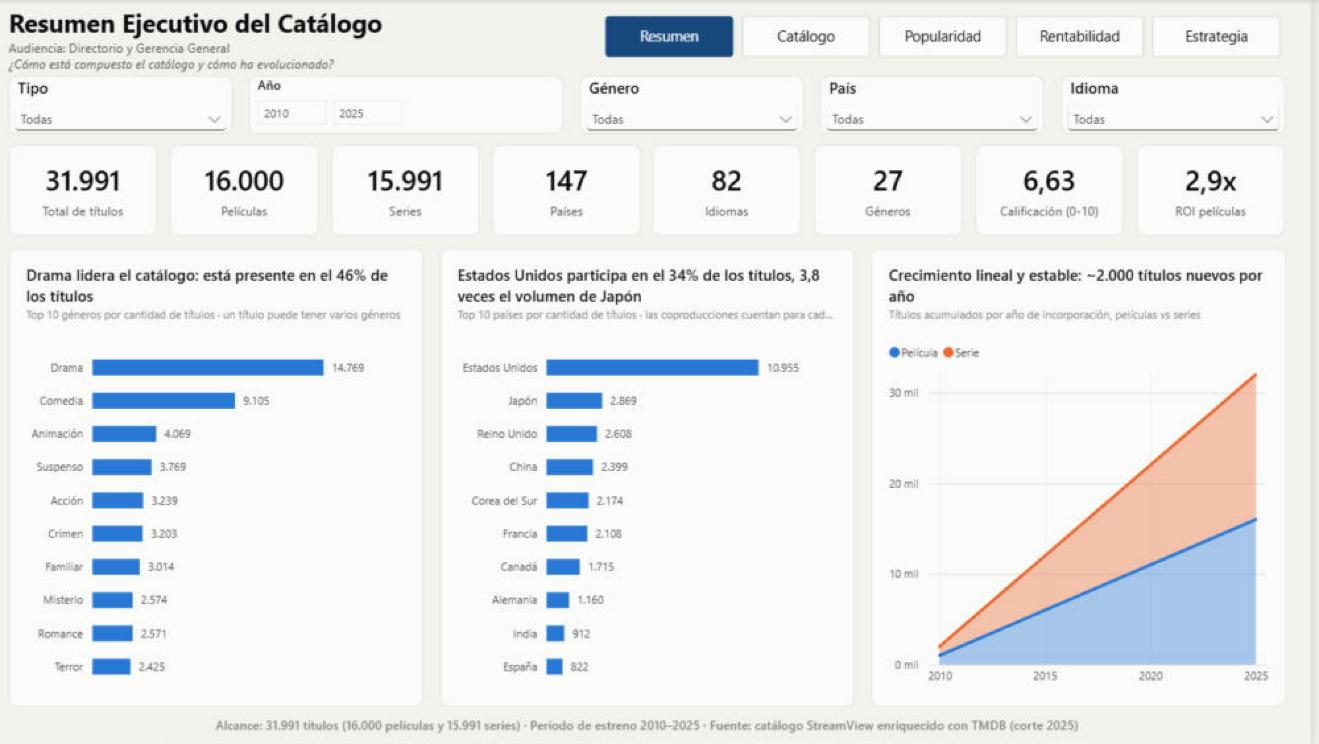

The page's visual inventory and layout, read from the dashboard file:
{"tool":"powerbi","page":{"name":"Resumen","canvas":[1280,720],"ordinal":0},"visuals":[{"type":"textbox","box":[24,6,560,64],"z":1000},{"type":"pageNavigator","box":[600,16,656,40],"z":2000},{"type":"slicer","fields":{"Values":["Contenido.Tipo"]},"box":[24,74,216.3,56],"z":3000},{"type":"slicer","fields":{"Values":["Calendario.Año"]},"box":[256.3,74,302.8,56],"z":4000},{"type":"slicer","fields":{"Values":["Genero.Género"]},"box":[575.1,74,216.3,56],"z":5000},{"type":"slicer","fields":{"Values":["Pais.País"]},"box":[807.4,74,216.3,56],"z":6000},{"type":"slicer","fields":{"Values":["Contenido.Idioma"]},"box":[1039.7,74,216.3,56],"z":7000},{"type":"card","fields":{"Values":["Medidas.Total Contenidos"]},"box":[24,140,143.5,88],"z":8000},{"type":"card","fields":{"Values":["Medidas.Total Películas"]},"box":[179.5,140,143.5,88],"z":9000},{"type":"card","fields":{"Values":["Medidas.Total Series"]},"box":[335,140,143.5,88],"z":10000},{"type":"card","fields":{"Values":["Medidas.Países Representados"]},"box":[490.5,140,143.5,88],"z":11000},{"type":"card","fields":{"Values":["Medidas.Idiomas Disponibles"]},"box":[646,140,143.5,88],"z":12000},{"type":"card","fields":{"Values":["Medidas.Géneros Distintos"]},"box":[801.5,140,143.5,88],"z":13000},{"type":"card","fields":{"Values":["Medidas.Calificación Promedio"]},"box":[957,140,143.5,88],"z":14000},{"type":"card","fields":{"Values":["Medidas.ROI"]},"box":[1112.5,140,143.5,88],"z":15000},{"type":"clusteredBarChart","fields":{"Category":["Genero.Género"],"Y":["Medidas.Total Contenidos"]},"box":[24,240,400,442],"z":16000},{"type":"clusteredBarChart","fields":{"Category":["Pais.País"],"Y":["Medidas.Total Contenidos"]},"box":[440,240,400,442],"z":17000},{"type":"stackedAreaChart","fields":{"Category":["Calendario.Año"],"Series":["Contenido.Tipo"],"Y":["Medidas.Contenidos Acumulados"]},"box":[856,240,400,442],"z":18000},{"type":"card","fields":{"Values":["Medidas.Texto Alcance"]},"box":[24,686,1232,32],"z":19000}]}

Visuals, with their boxes in screenshot pixels (x1, y1, x2, y2), scaled from the page's 1280x720 canvas onto the 1319x744 screenshot:
textbox: box(25, 6, 602, 72)
pageNavigator: box(618, 17, 1294, 58)
slicer - Contenido.Tipo: box(25, 76, 248, 134)
slicer - Calendario.Año: box(264, 76, 576, 134)
slicer - Genero.Género: box(593, 76, 816, 134)
slicer - Pais.País: box(832, 76, 1055, 134)
slicer - Contenido.Idioma: box(1071, 76, 1294, 134)
card - Medidas.Total Contenidos: box(25, 145, 173, 236)
card - Medidas.Total Películas: box(185, 145, 333, 236)
card - Medidas.Total Series: box(345, 145, 493, 236)
card - Medidas.Países Representados: box(505, 145, 653, 236)
card - Medidas.Idiomas Disponibles: box(666, 145, 814, 236)
card - Medidas.Géneros Distintos: box(826, 145, 974, 236)
card - Medidas.Calificación Promedio: box(986, 145, 1134, 236)
card - Medidas.ROI: box(1146, 145, 1294, 236)
clusteredBarChart - Genero.Género x Medidas.Total Contenidos: box(25, 248, 437, 705)
clusteredBarChart - Pais.País x Medidas.Total Contenidos: box(453, 248, 866, 705)
stackedAreaChart - Calendario.Año x Contenido.Tipo: box(882, 248, 1294, 705)
card - Medidas.Texto Alcance: box(25, 709, 1294, 742)
